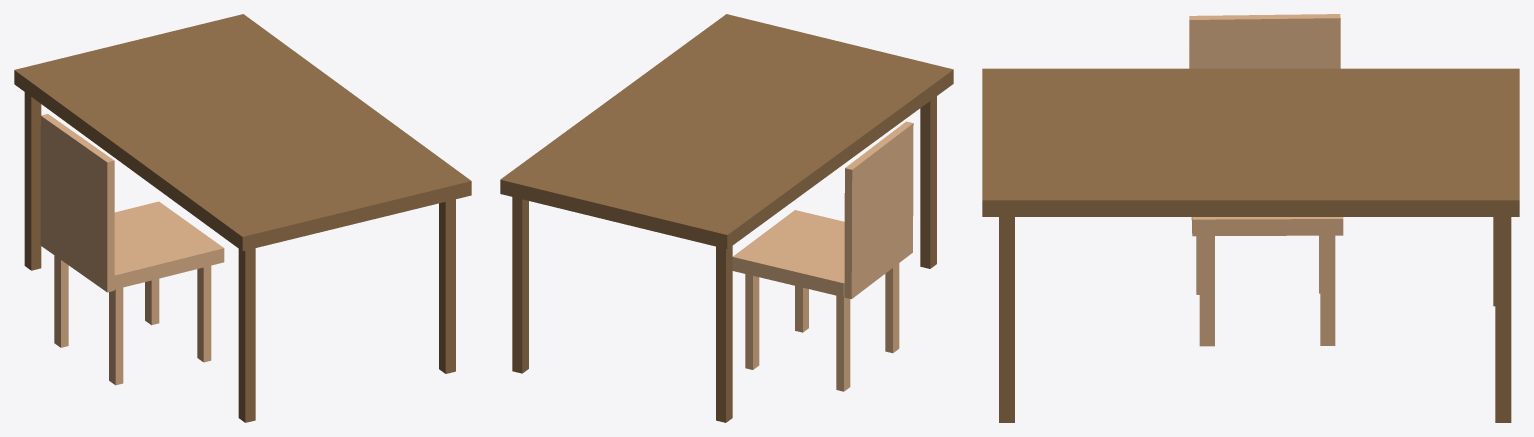
File: tablenchair.gltf
3 renders of one model, left to right at view 1: azimuth 30°, elevation 25°; view 2: azimuth 150°, elevation 25°; view 3: azimuth 270°, elevation 25°, orthographic. The views are drawn at different scales.
Visible parts, largest first — view 1: Table, Chair; view 2: Table, Chair; view 3: Table, Chair.
Boxes of the visible parts, bbox=[...] form: Table: bbox=[14, 14, 471, 422]; Chair: bbox=[40, 114, 224, 385]; Table: bbox=[500, 14, 953, 422]; Chair: bbox=[732, 121, 913, 391]; Table: bbox=[982, 68, 1519, 422]; Chair: bbox=[1189, 14, 1343, 346].
Bounding box in the file's own units: 1.71 × 1.34 × 2.43.
